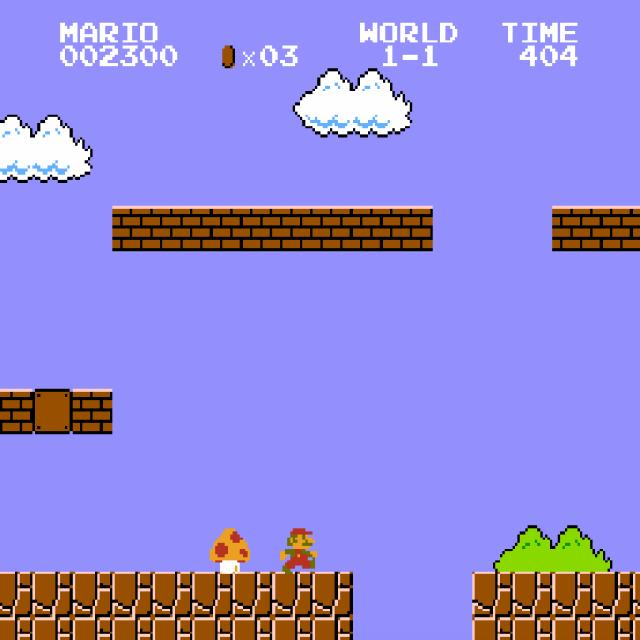brick_block: (72, 389, 113, 434), (112, 206, 153, 251), (152, 206, 193, 251), (192, 206, 233, 251), (232, 206, 273, 251), (272, 206, 313, 251), (312, 206, 353, 251), (352, 206, 393, 251), (392, 206, 433, 251), (552, 206, 593, 251), (592, 206, 633, 251), (0, 388, 32, 434), (633, 206, 640, 251)
empty_block: (32, 389, 73, 434)
little_mario: (277, 526, 320, 574)
mushroom: (207, 526, 250, 574)
undestructible_block: (32, 572, 73, 617), (72, 572, 113, 617), (112, 572, 153, 617), (152, 572, 193, 617), (192, 572, 233, 617), (232, 572, 273, 617), (272, 572, 313, 617), (312, 572, 353, 617), (472, 572, 513, 617), (512, 572, 553, 617), (552, 572, 593, 617), (592, 572, 633, 617), (0, 571, 32, 617), (32, 617, 73, 640), (72, 617, 113, 640), (112, 617, 153, 640), (152, 617, 193, 640), (192, 617, 233, 640), (232, 617, 273, 640), (272, 617, 313, 640), (312, 617, 353, 640), (472, 617, 513, 640), (512, 617, 553, 640), (552, 617, 593, 640), (592, 617, 633, 640), (0, 617, 32, 639), (633, 572, 640, 617), (633, 617, 640, 640)
